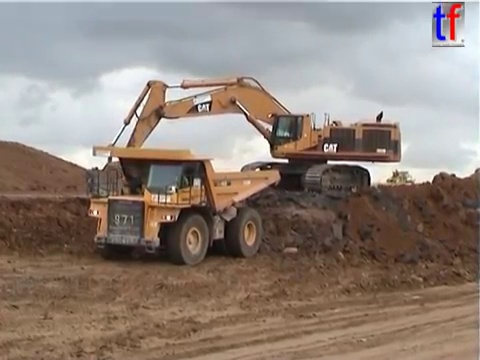excavator: (84, 73, 404, 205)
truck: (84, 143, 282, 267), (384, 168, 415, 192)
